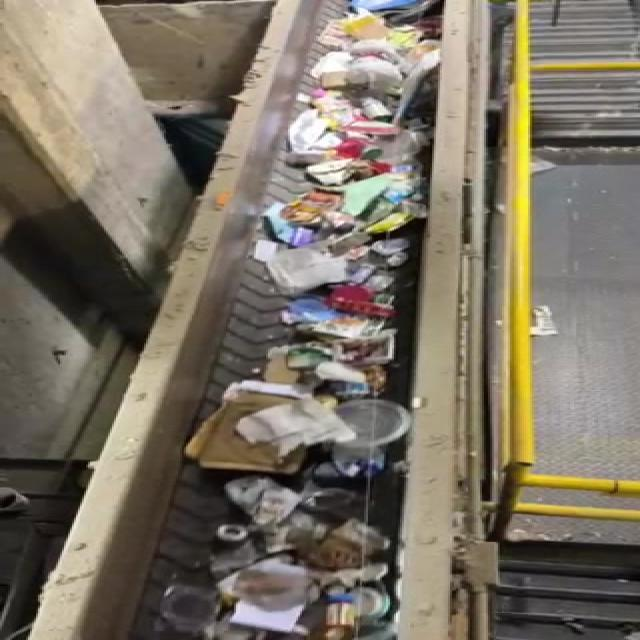metal: (313, 588, 370, 640), (205, 520, 255, 563)
paper: (185, 372, 322, 484), (300, 519, 408, 576)
pp: (308, 396, 457, 458), (143, 566, 228, 636)
